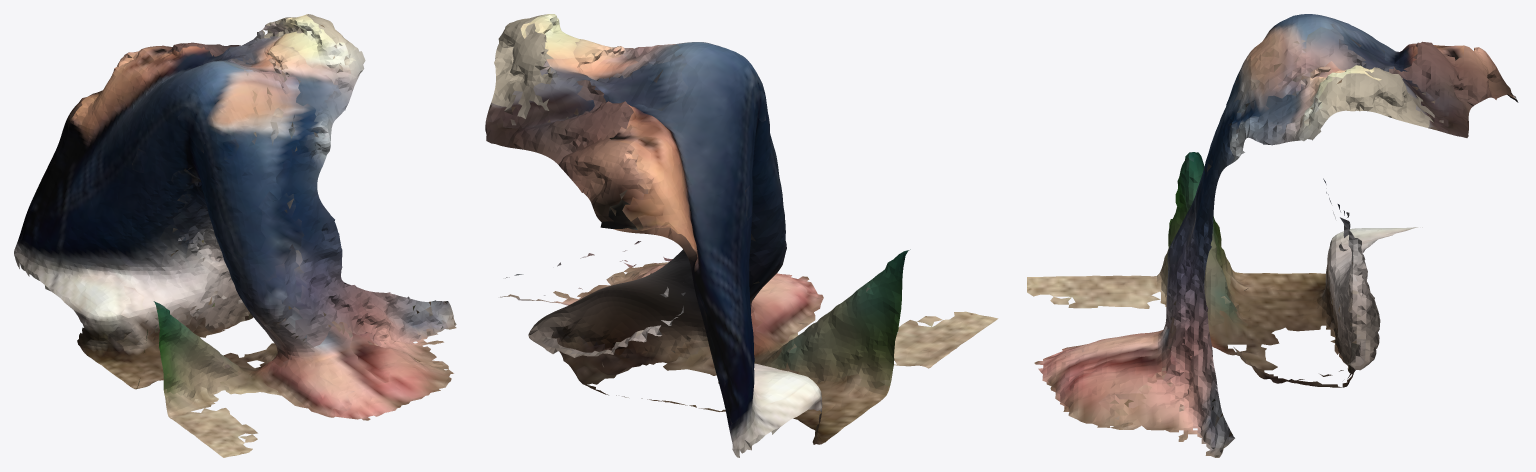
The picture shows the model from 3 angles, left to right: view 1: azimuth 30°, elevation 25°; view 2: azimuth 150°, elevation 25°; view 3: azimuth 270°, elevation 25°; orthographic projection. The views are drawn at different scales.
Size of the model in its own units: 0.5071 by 0.4404 by 0.5886.
1 material, 1 textured.
